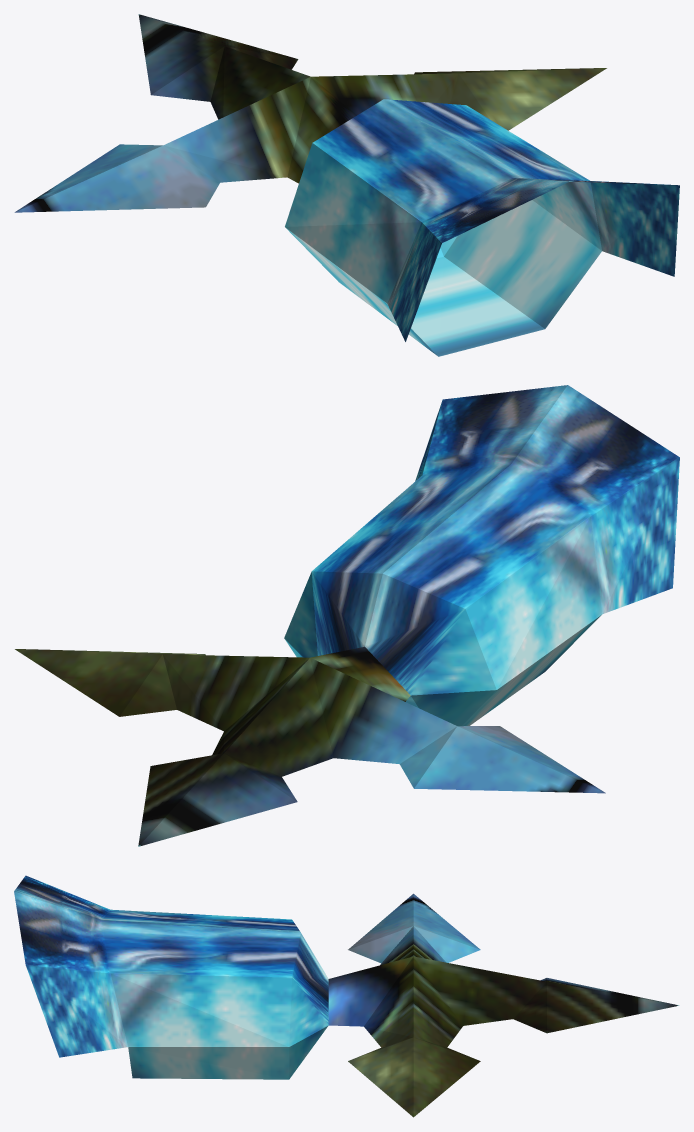
Rendered from twinblade101_2.obj.
The picture shows the model from 3 angles, top to bottom: view 1: azimuth 30°, elevation 25°; view 2: azimuth 150°, elevation 25°; view 3: azimuth 270°, elevation 25°; orthographic projection. The views are drawn at different scales.
Parts seen in each view (by area): view 1: MDL_cwdhkn01_2r; view 2: MDL_cwdhkn01_2r; view 3: MDL_cwdhkn01_2r.
Part boxes in pixels (x1,y1,x2,y2): MDL_cwdhkn01_2r: (14, 14, 679, 356); MDL_cwdhkn01_2r: (15, 385, 679, 846); MDL_cwdhkn01_2r: (14, 875, 679, 1117).
Size of the model in its own units: 0.4525 by 0.1587 by 0.5687.
